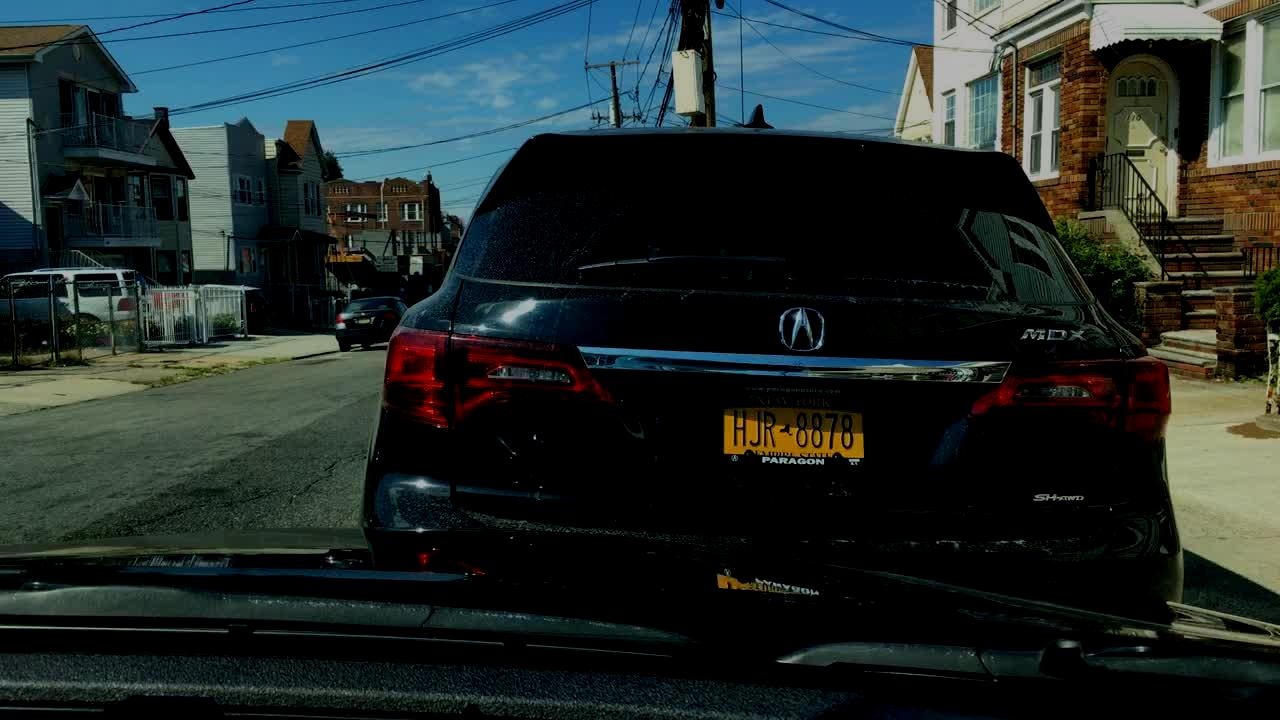acura: (768, 288, 833, 367)
